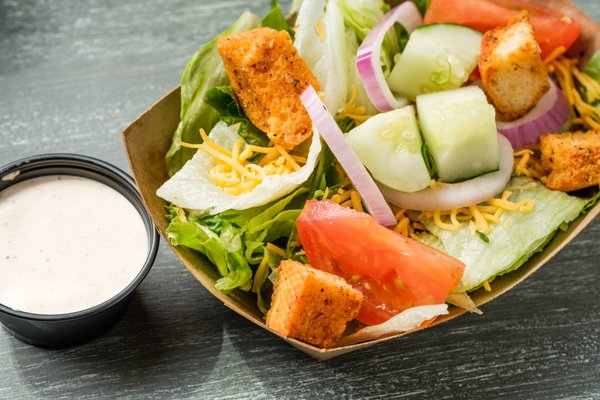sushi: (0, 153, 160, 349)
